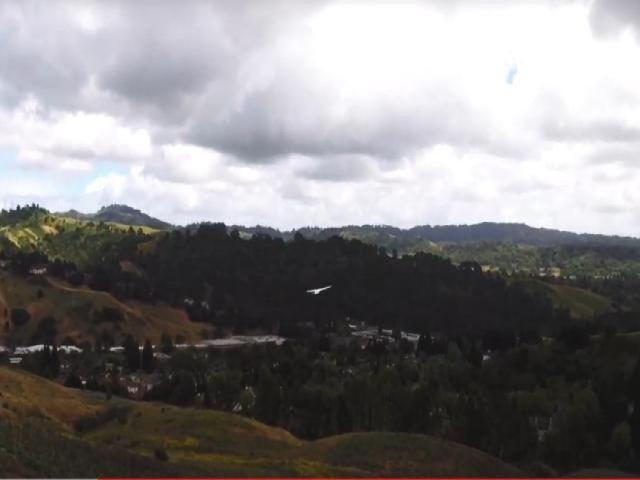iha: (308, 285, 330, 294)
